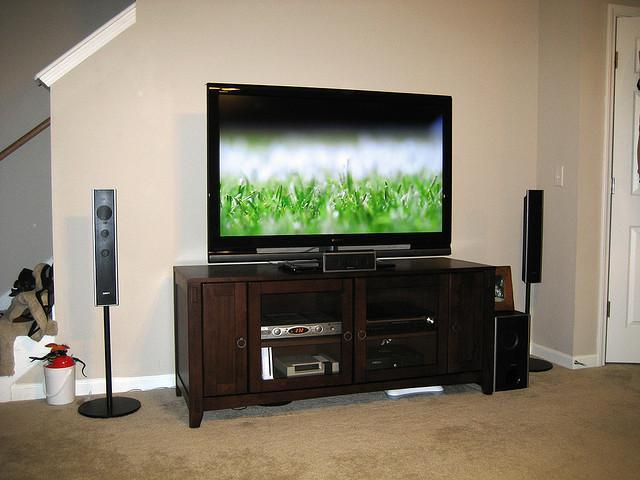tv: (201, 75, 462, 255)
